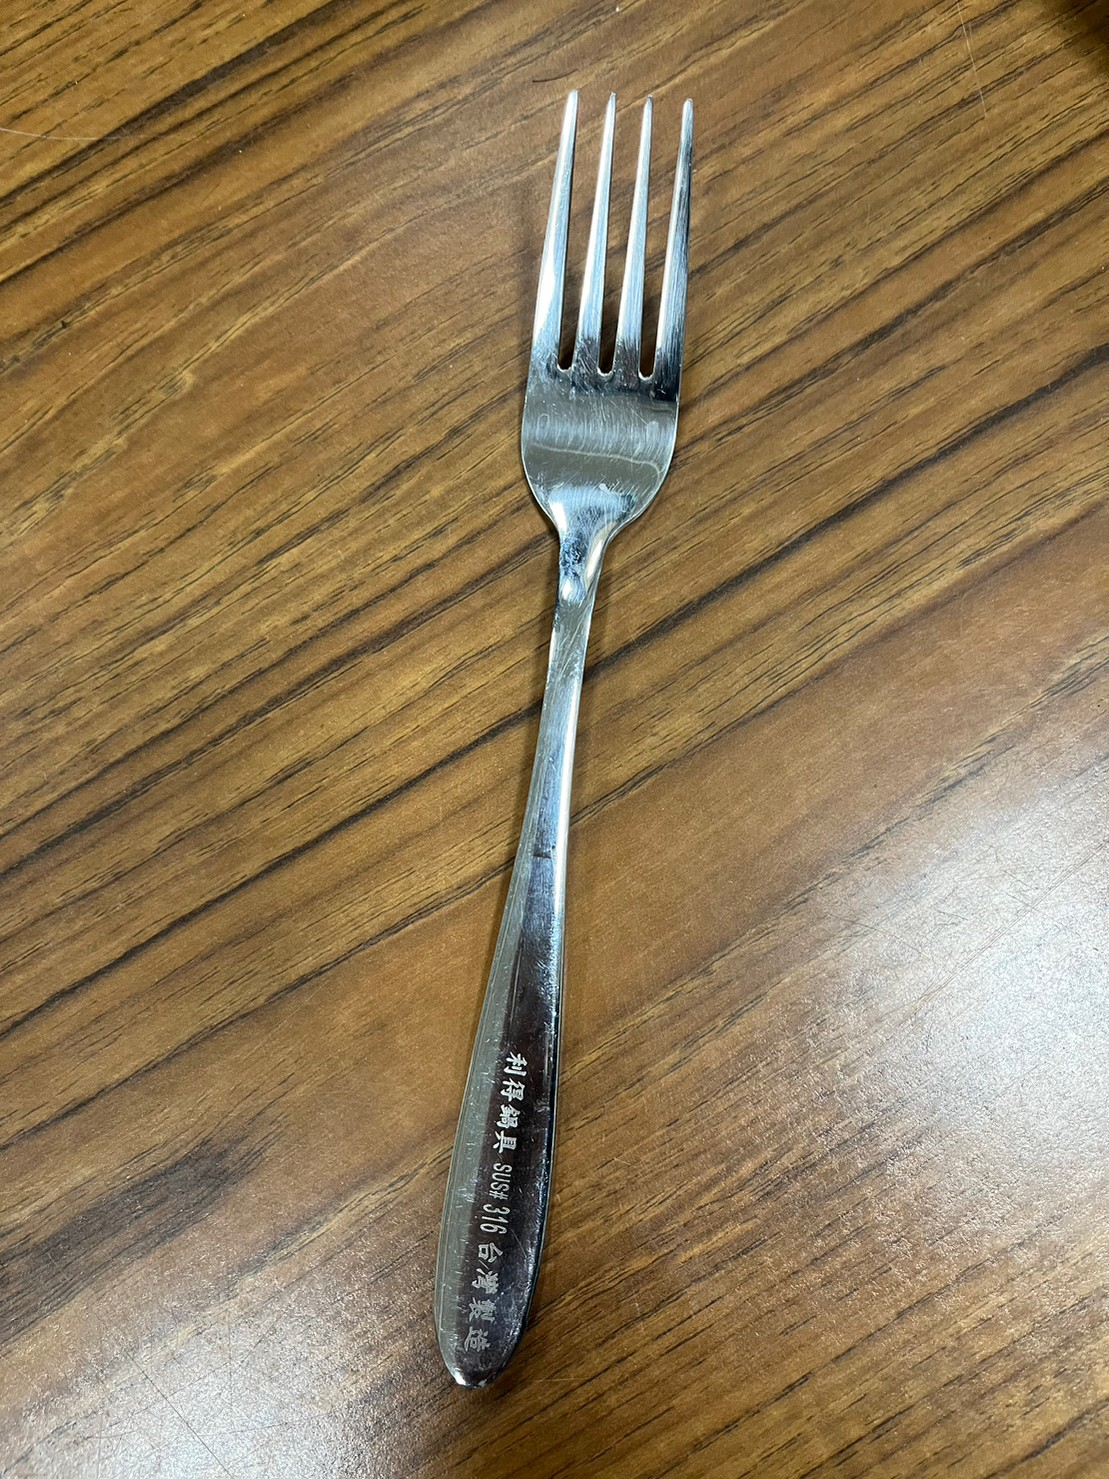fork: (407, 68, 719, 1425)
